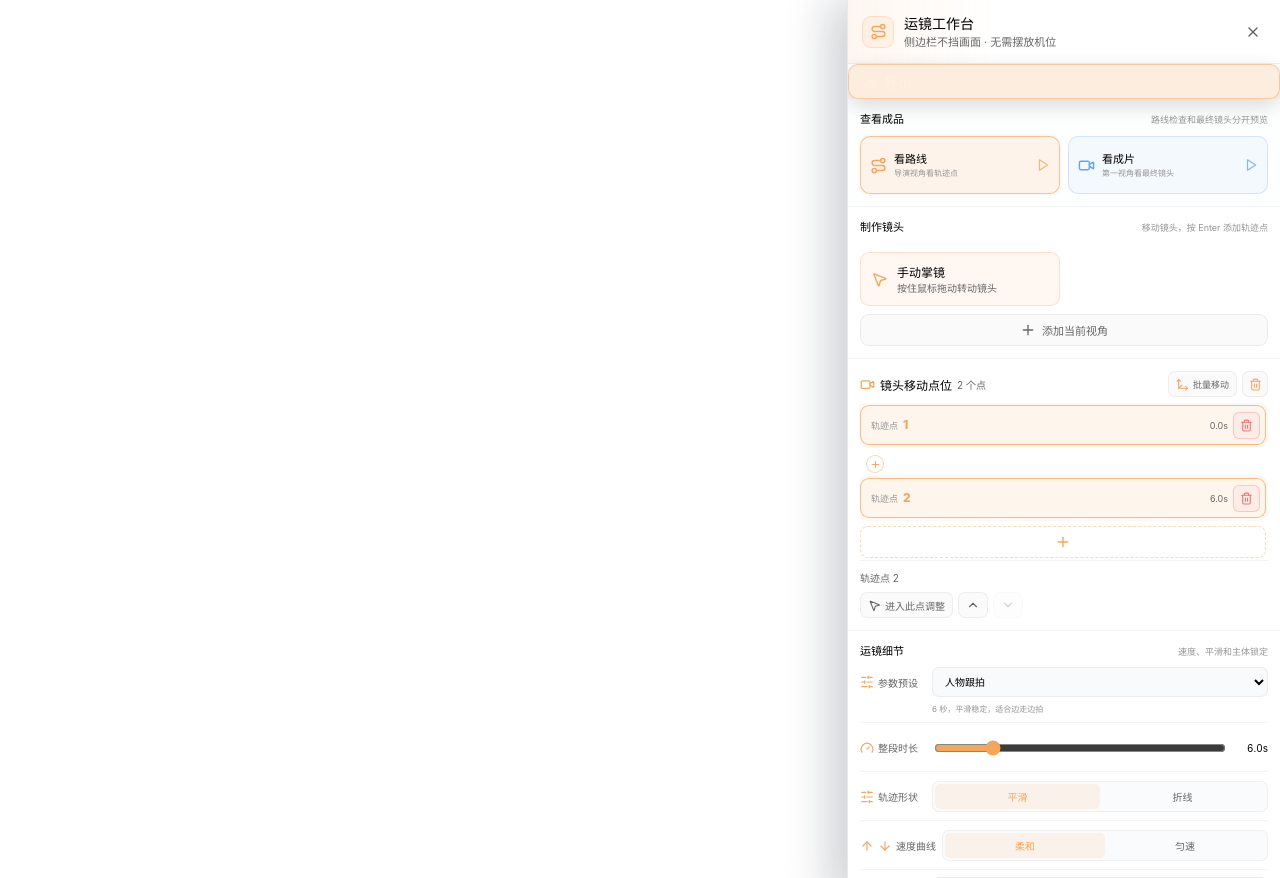
deletes the entire camera route only after confirmation
Click the button named "删除镜头移动点位". click: (1255, 384)
box: [1242, 371, 1268, 397]
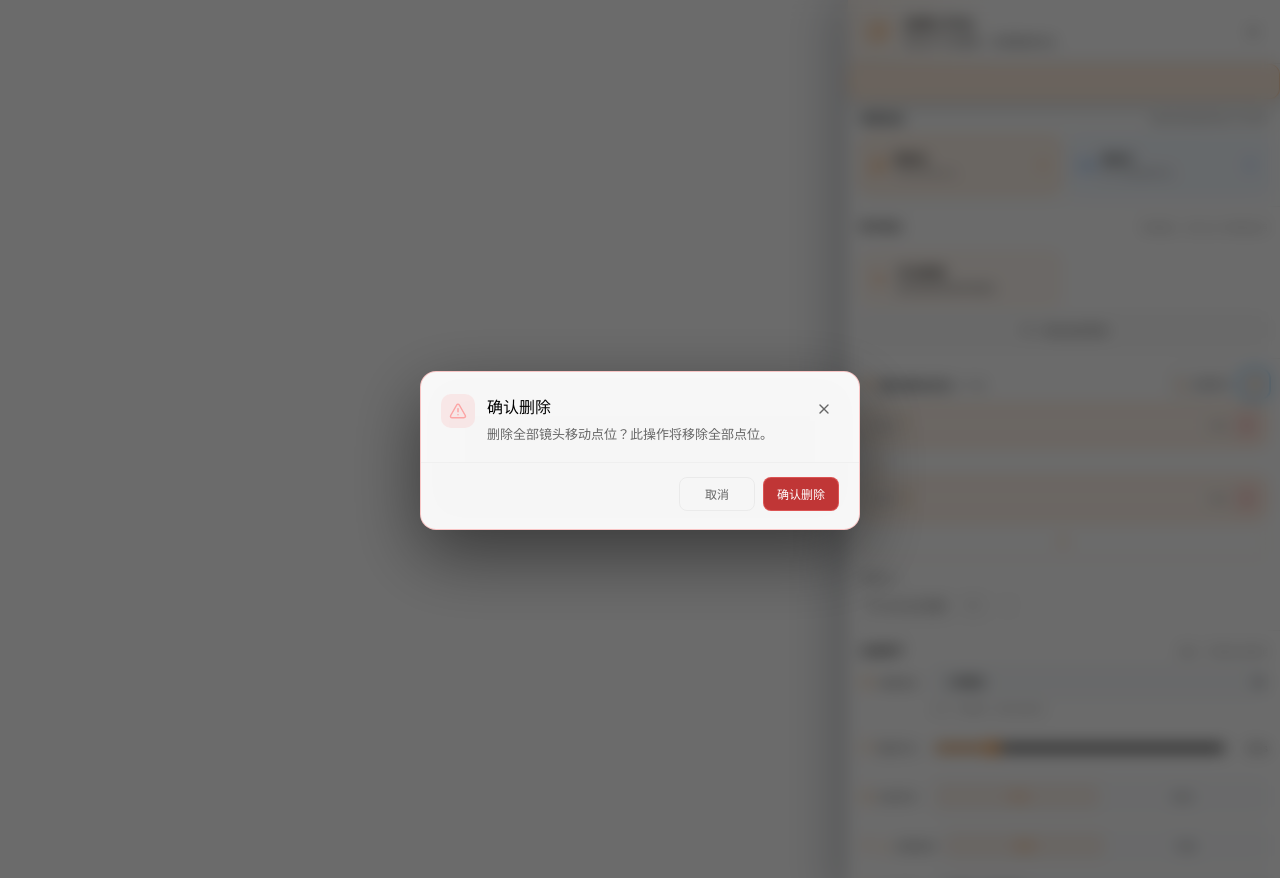
Now the dialog shows "删除全部镜头移动点位？此操作将移除全部点位。", box [487, 426, 773, 442]
Click the button "取消". click: (717, 494)
box: [679, 476, 755, 510]
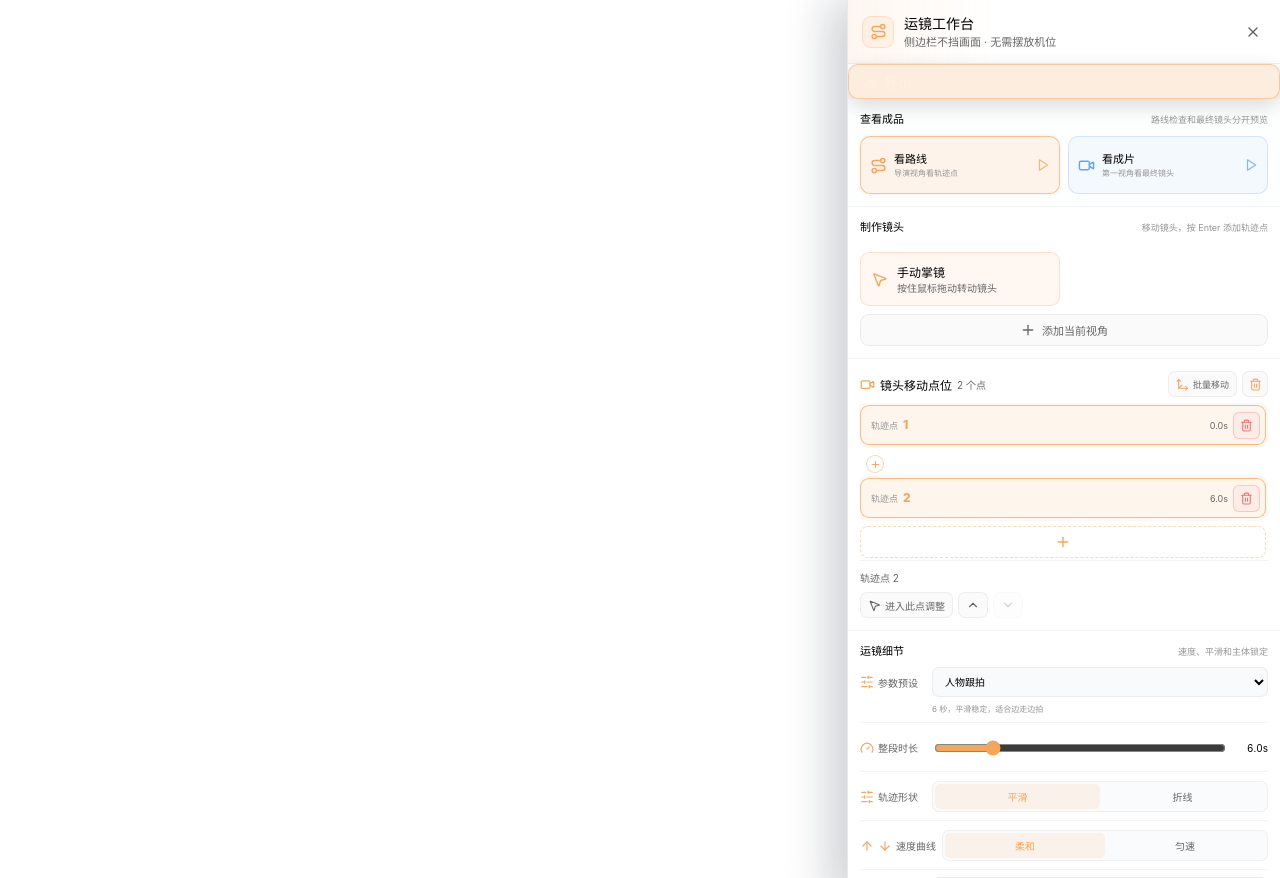
Click the button named "删除镜头移动点位". click: (1255, 384)
box: [1242, 371, 1268, 397]
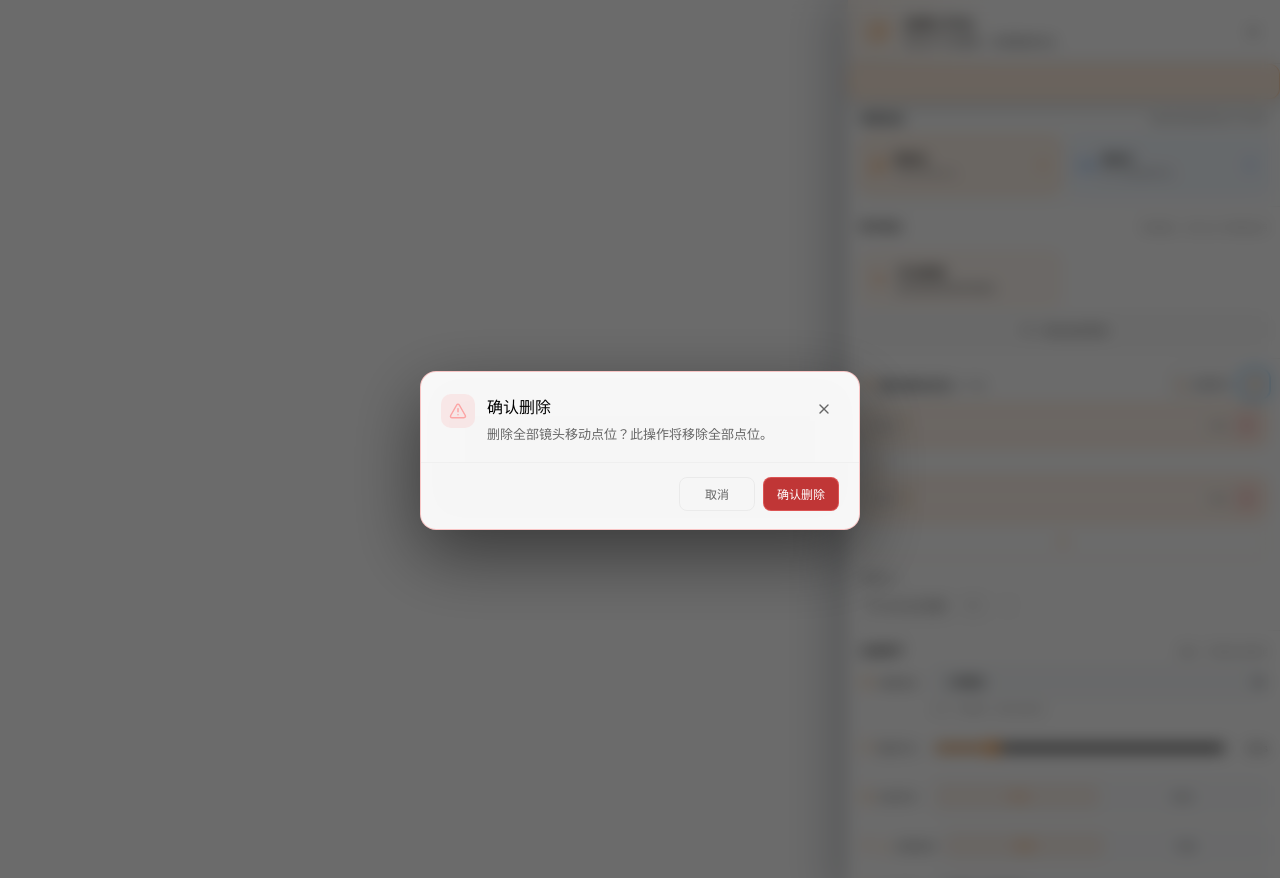
Click the button "确认删除". click: (801, 494)
box: [763, 476, 839, 510]
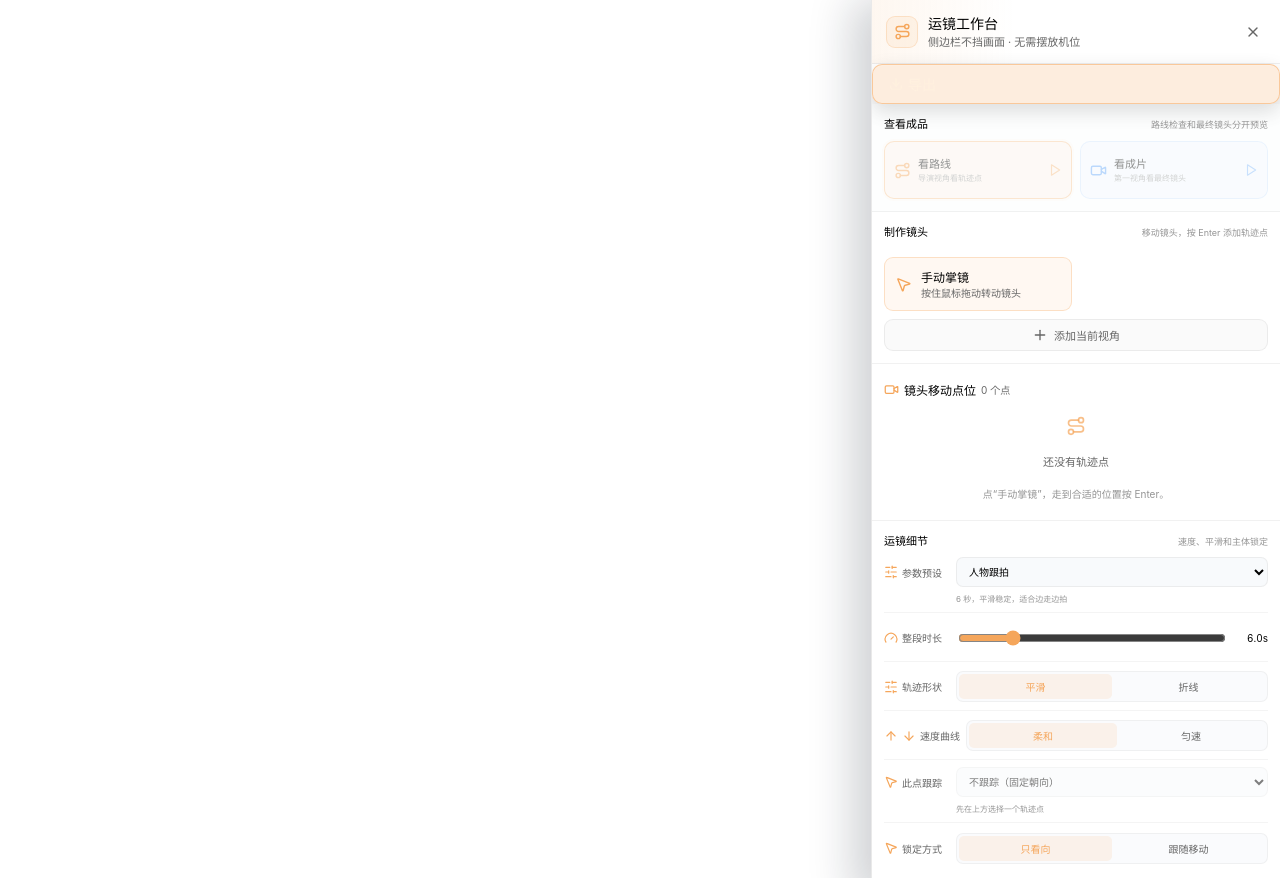
Now the text "还没有轨迹点" is shown, box [1043, 452, 1109, 468]
